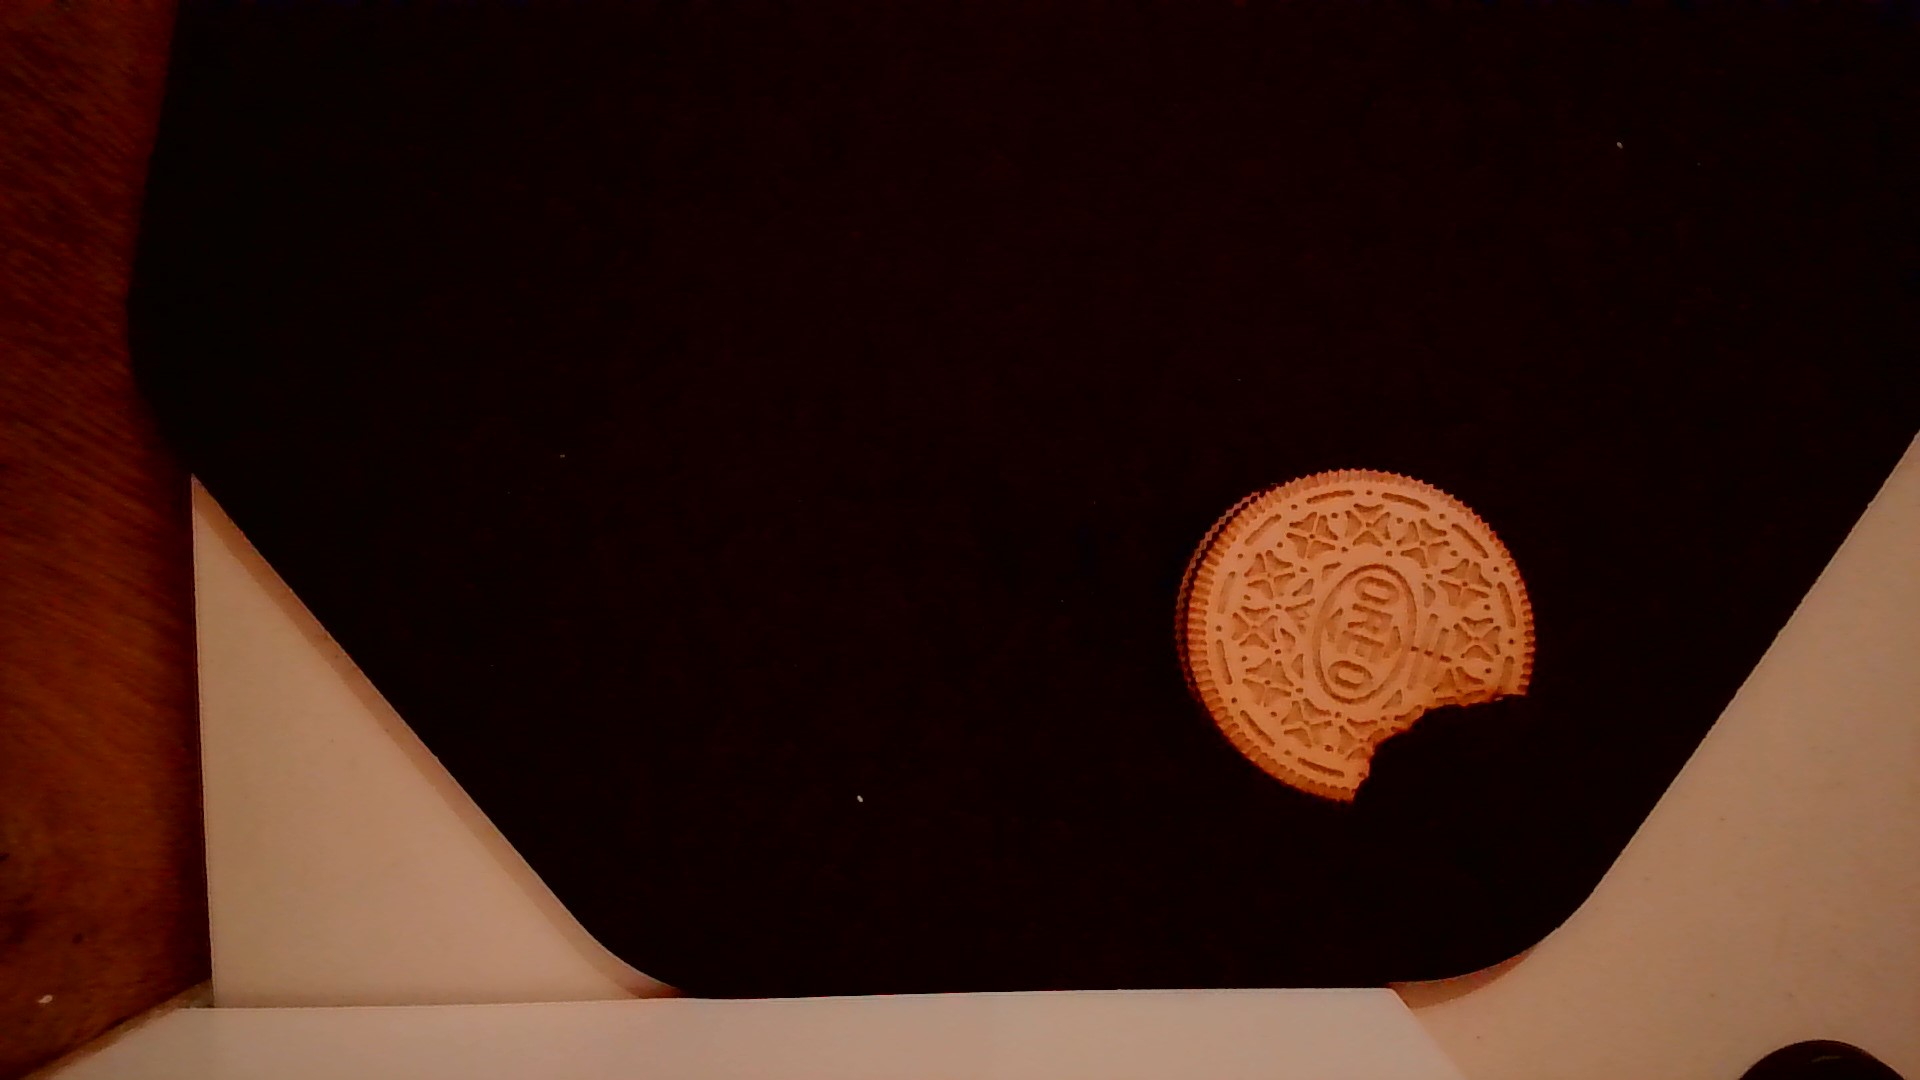Mangé: (1332, 675, 1543, 824)
Oréo: (1164, 460, 1542, 804)
